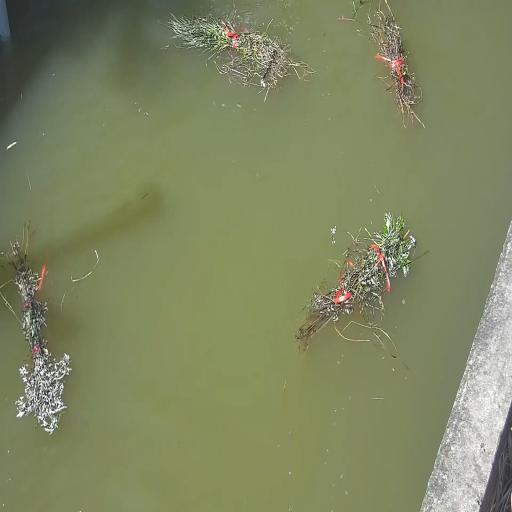twig: (0, 217, 95, 436), (296, 210, 420, 361), (158, 4, 300, 100), (363, 2, 424, 130), (338, 1, 368, 23)
